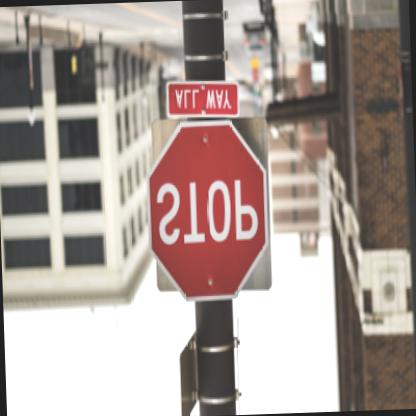stop: (140, 117, 270, 304)
